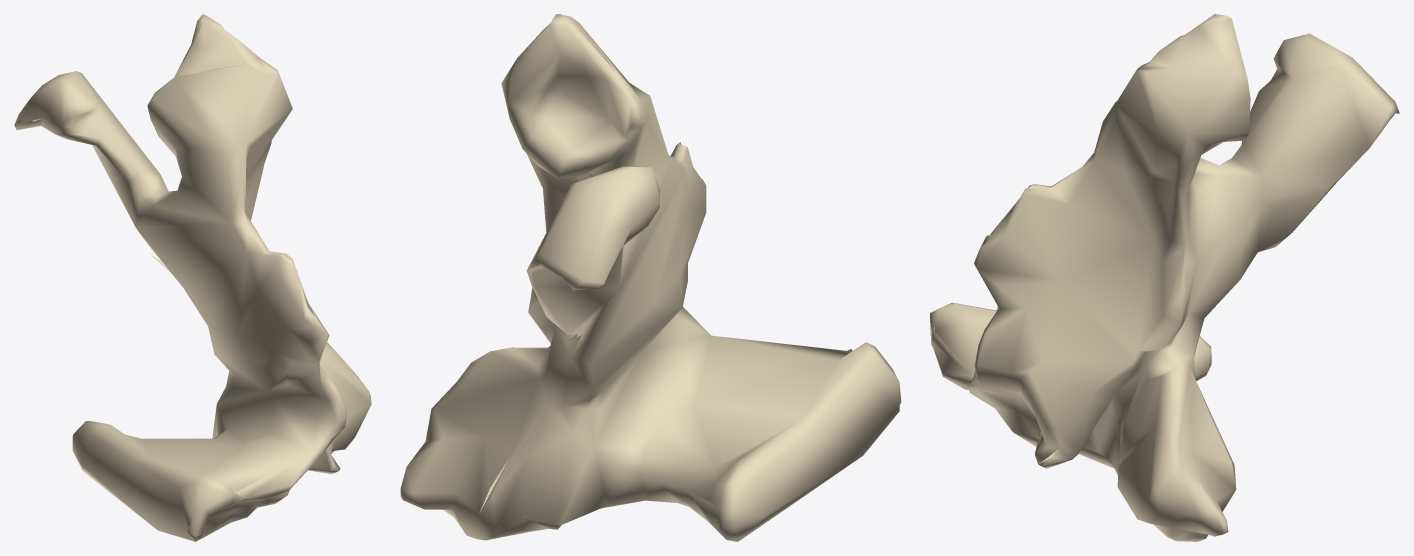
File: esqueleto-palatine-bone-l.glb
3 views of the same model, side by side, from view 1: azimuth 30°, elevation 25°; view 2: azimuth 150°, elevation 25°; view 3: azimuth 270°, elevation 25° (orthographic). The views are drawn at different scales.
Parts seen in each view (by area): view 1: Palatine bone.l; view 2: Palatine bone.l; view 3: Palatine bone.l.
Boxes of the visible parts, box(x1,y1,x2,y2) form: Palatine bone.l: box(14, 14, 371, 541); Palatine bone.l: box(400, 14, 901, 541); Palatine bone.l: box(930, 14, 1399, 541).
Size of the model in its own units: 0.0263 by 0.0402 by 0.0352.
